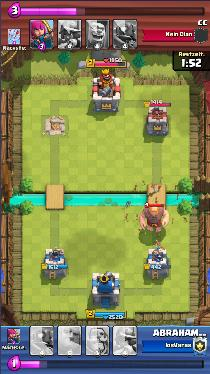ally_arrow: (126, 179, 189, 230)
enemy_giant: (140, 206, 171, 233)
